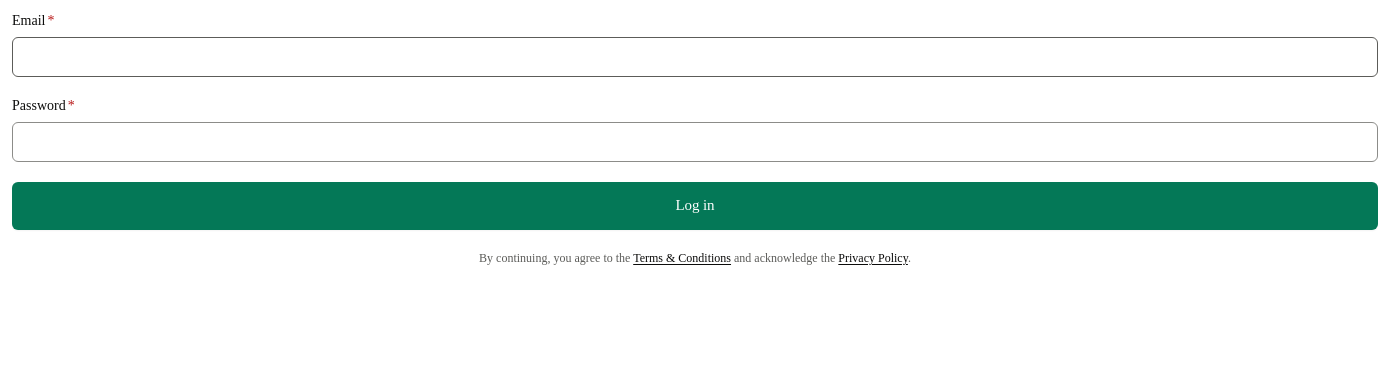
LoginForm › submits valid input to the server action and shows its error
Step 1. Type "ada@example.com" into the field labelled "Email" → point(695, 57), box [12,37,1378,77]
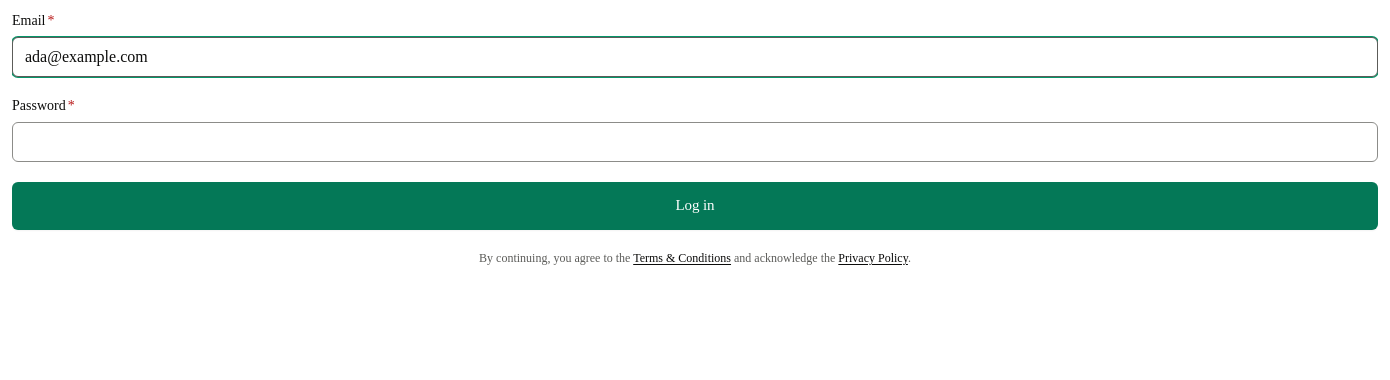
Step 2. Type "secret-1" into the password field labelled "Password *" → point(695, 142), box [12,122,1378,162]
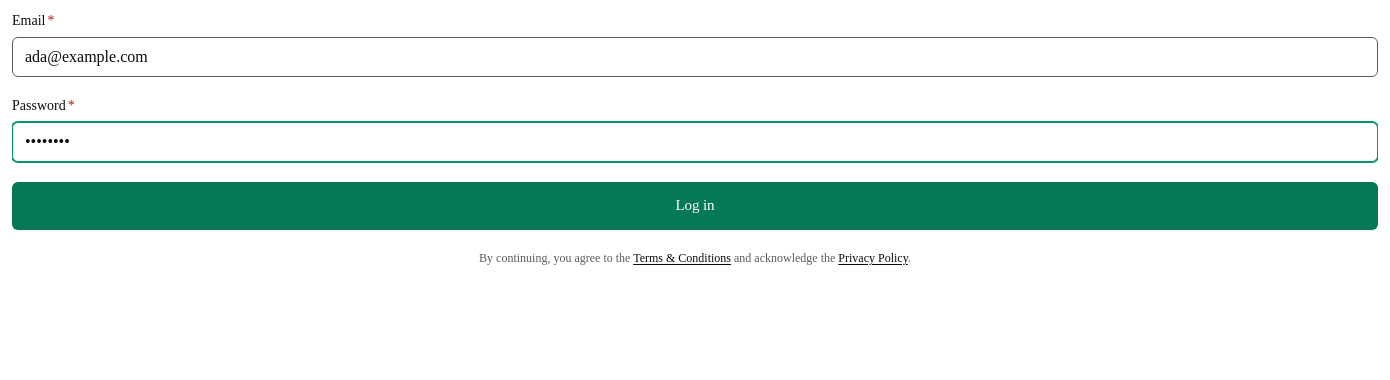
Step 3. Click the button "Log in" → point(695, 206), box [12,182,1378,230]
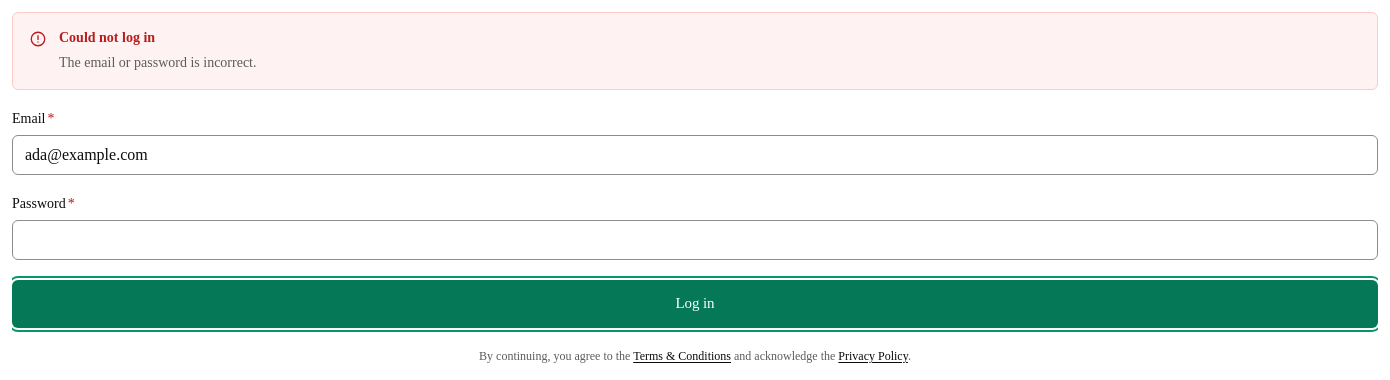
Check: the message shows "The email or password is incorrect.", box [59,55,256,70]
